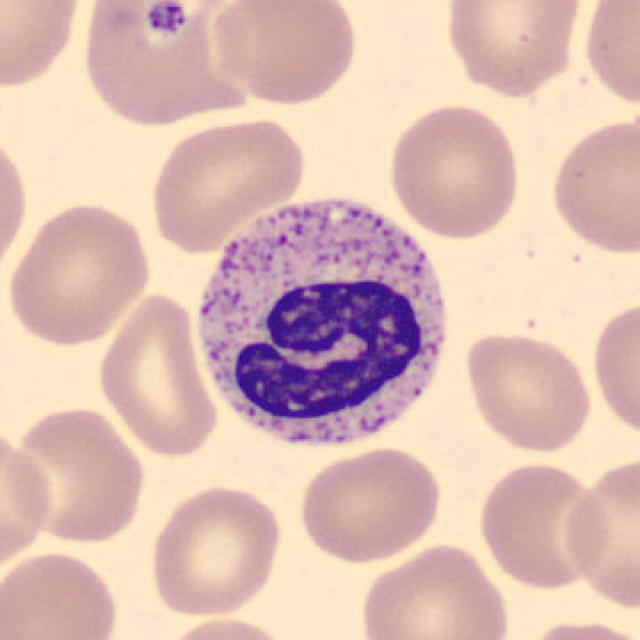neutrophil: (199, 194, 452, 460)
rbc: (80, 0, 234, 125), (107, 303, 221, 459), (162, 118, 293, 248), (17, 217, 150, 331), (404, 111, 522, 237), (20, 422, 142, 539), (302, 452, 424, 568), (150, 495, 266, 612), (470, 336, 589, 446), (211, 0, 339, 99), (558, 451, 640, 601), (370, 544, 498, 640), (486, 474, 593, 586), (549, 121, 640, 247), (450, 0, 568, 97), (0, 561, 117, 640), (2, 2, 89, 90), (1, 434, 59, 566), (592, 310, 640, 427), (586, 1, 640, 101), (0, 142, 26, 258), (173, 615, 268, 640), (534, 624, 632, 640)
